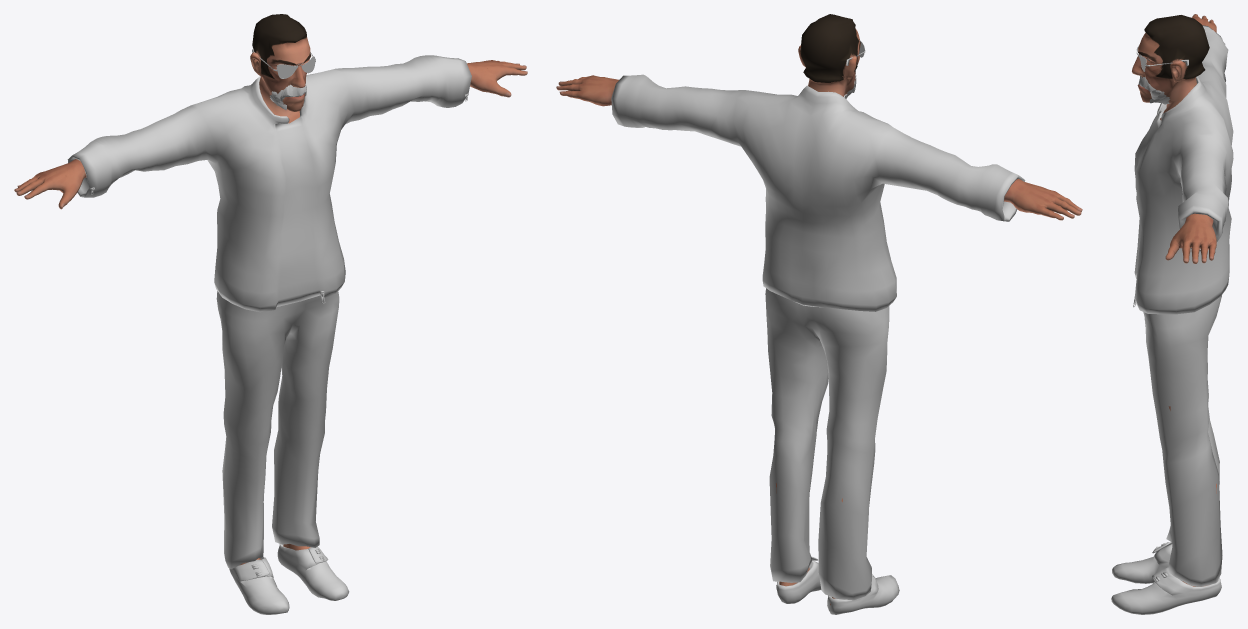
The model's file is Blatnoy.obj.
3 renders of one model, left to right at view 1: azimuth 30°, elevation 25°; view 2: azimuth 150°, elevation 25°; view 3: azimuth 270°, elevation 25°, orthographic. The views are drawn at different scales.
Parts seen in each view (by area): view 1: Tops, Bottoms, Body, Shoes; view 2: Tops, Bottoms, Body, Shoes; view 3: Tops, Bottoms, Body, Shoes, Moustaches.
Boxes of the visible parts, x1,y1,x2,y2 form: Tops: (67,55,471,312); Bottoms: (216,291,339,569); Body: (14,14,527,565); Shoes: (229,544,349,614); Tops: (611,74,1025,311); Bottoms: (765,288,889,600); Body: (556,14,1082,605); Shoes: (776,556,899,614); Tops: (1133,25,1233,314); Bottoms: (1143,295,1222,586); Body: (1132,14,1216,586); Shoes: (1111,541,1221,614); Moustaches: (1138,75,1170,104).
Size of the model in its own units: 168 by 180 by 34.61.
